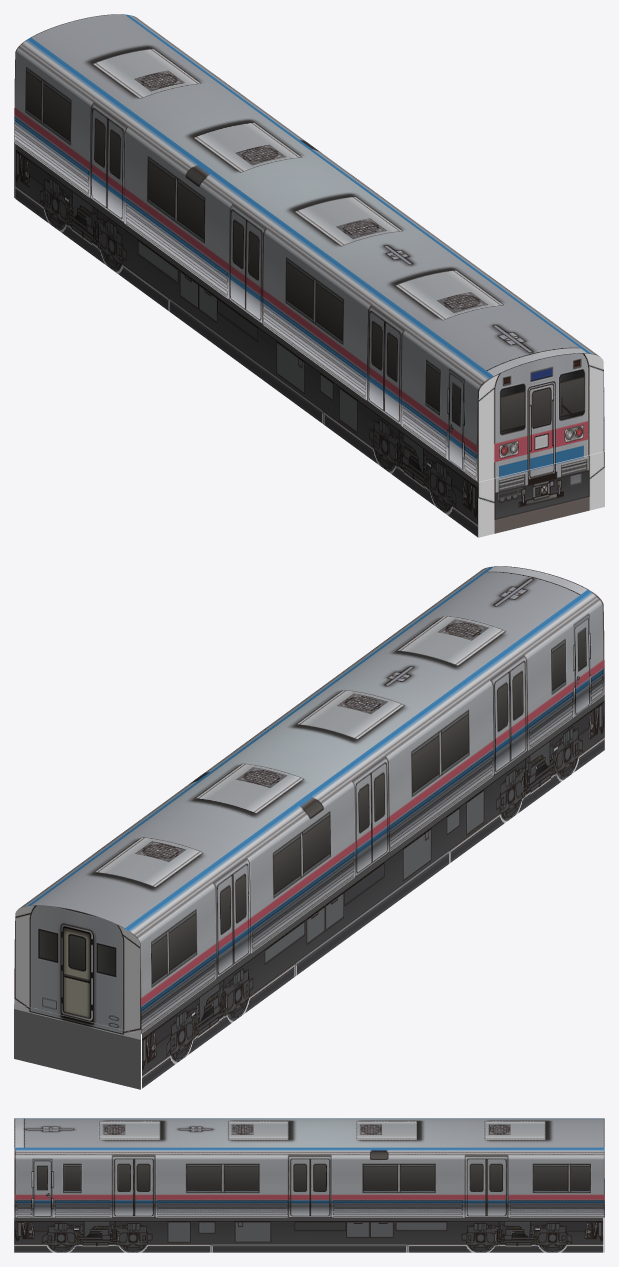
The model's file is car1.glb.
3 views of the same model, one above another, from view 1: azimuth 30°, elevation 25°; view 2: azimuth 150°, elevation 25°; view 3: azimuth 270°, elevation 25° (orthographic). The views are drawn at different scales.
Visible parts, largest first — view 1: keisei-3600-car1; view 2: keisei-3600-car1; view 3: keisei-3600-car1.
Boxes of the visible parts, x1,y1,x2,y2 form: keisei-3600-car1: (14, 14, 604, 537); keisei-3600-car1: (14, 566, 604, 1089); keisei-3600-car1: (14, 1118, 604, 1252).
Bounding box in the file's own units: 2.76 × 3.39 × 17.53.
Materials: 9 (8 with a texture image).
